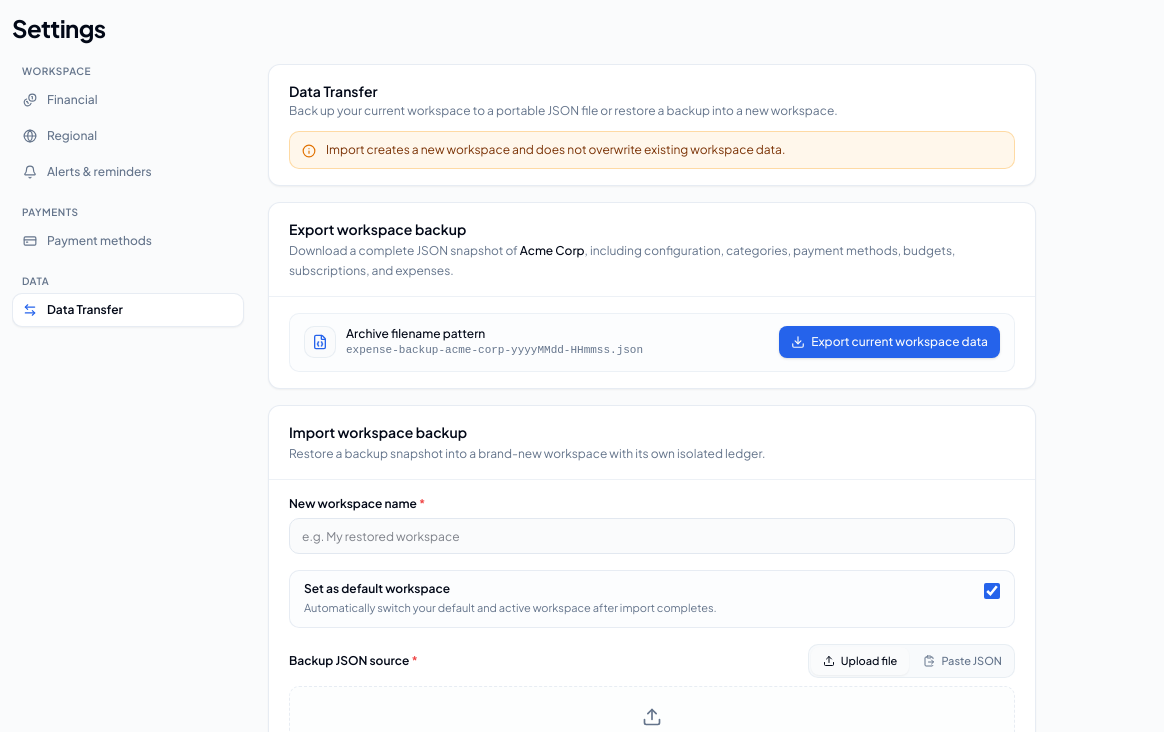
it: Settings -> Data Transfer UI › shows an error toast and alert when export fails
This screenshot has width=1164, height=732.
Click the button "Export current workspace data". click: {"x": 890, "y": 342}
box: [779, 326, 1000, 358]
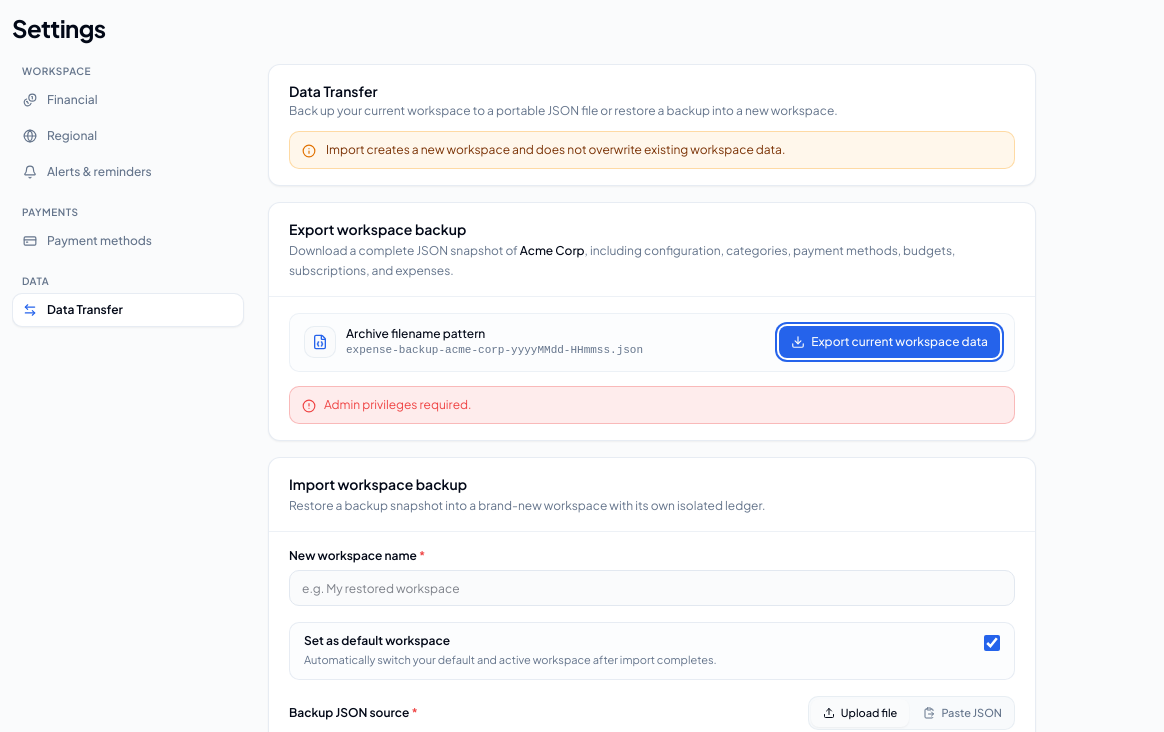
Now the message reads "Admin privileges required.", box [324, 396, 472, 412]
